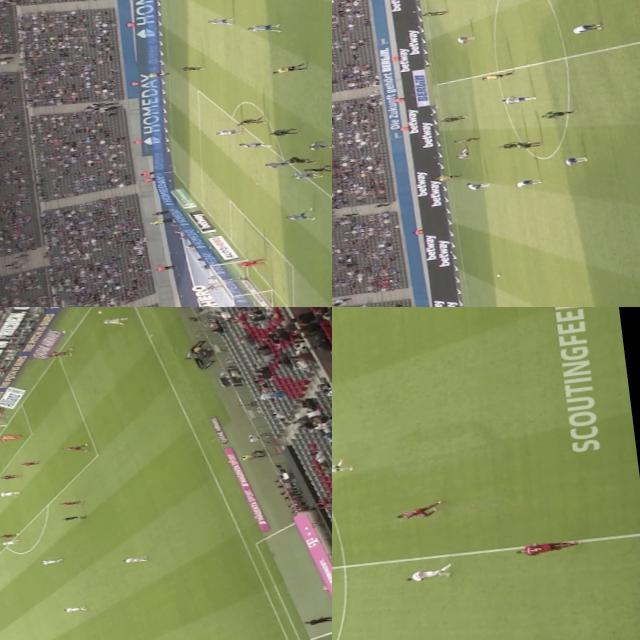ball: (92, 308, 105, 314), (494, 272, 502, 277)
player: (518, 535, 582, 555), (394, 498, 446, 520), (406, 562, 454, 583), (242, 19, 283, 34), (232, 112, 270, 128), (296, 160, 332, 175), (302, 136, 332, 153), (502, 91, 536, 105), (232, 255, 269, 267), (283, 208, 314, 222), (568, 22, 603, 34), (268, 124, 302, 136), (238, 136, 268, 149), (206, 13, 236, 26), (538, 108, 573, 119), (58, 441, 90, 453), (214, 125, 243, 138), (512, 176, 540, 189), (175, 62, 205, 74), (438, 111, 468, 123), (118, 552, 148, 564), (332, 458, 351, 476), (287, 170, 321, 180), (452, 144, 472, 161), (94, 316, 128, 326), (263, 155, 290, 167), (43, 347, 72, 358), (58, 603, 87, 614), (55, 498, 86, 508), (460, 179, 488, 190), (33, 556, 67, 564), (419, 8, 446, 18), (15, 458, 40, 468), (498, 139, 525, 148), (564, 155, 584, 167), (451, 134, 475, 144), (456, 32, 476, 44), (0, 433, 24, 442), (0, 486, 19, 497), (516, 138, 535, 148), (0, 471, 21, 480), (0, 529, 18, 538), (0, 537, 19, 545)
